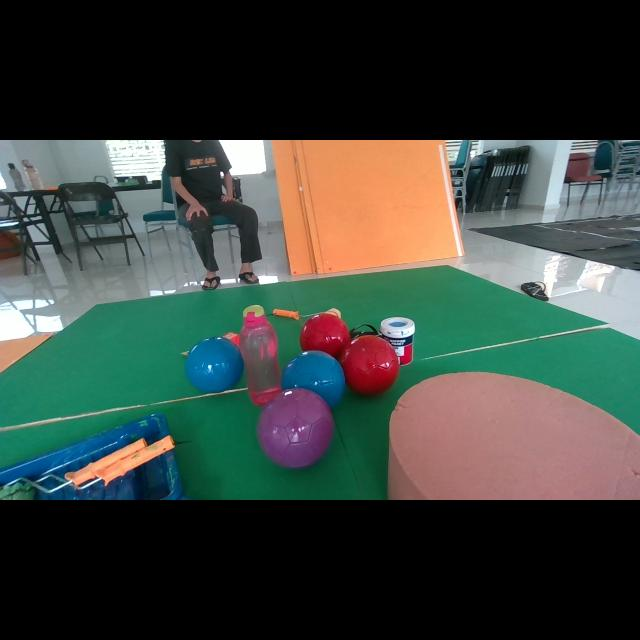B: (282, 350, 345, 408), (185, 338, 244, 392)
P: (258, 388, 334, 468)
R: (339, 335, 399, 394), (300, 314, 350, 358)
